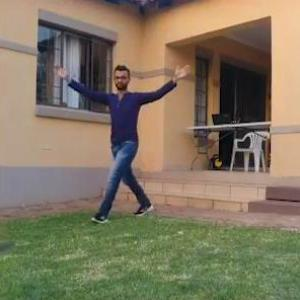takeoff: (63, 63, 203, 221)
